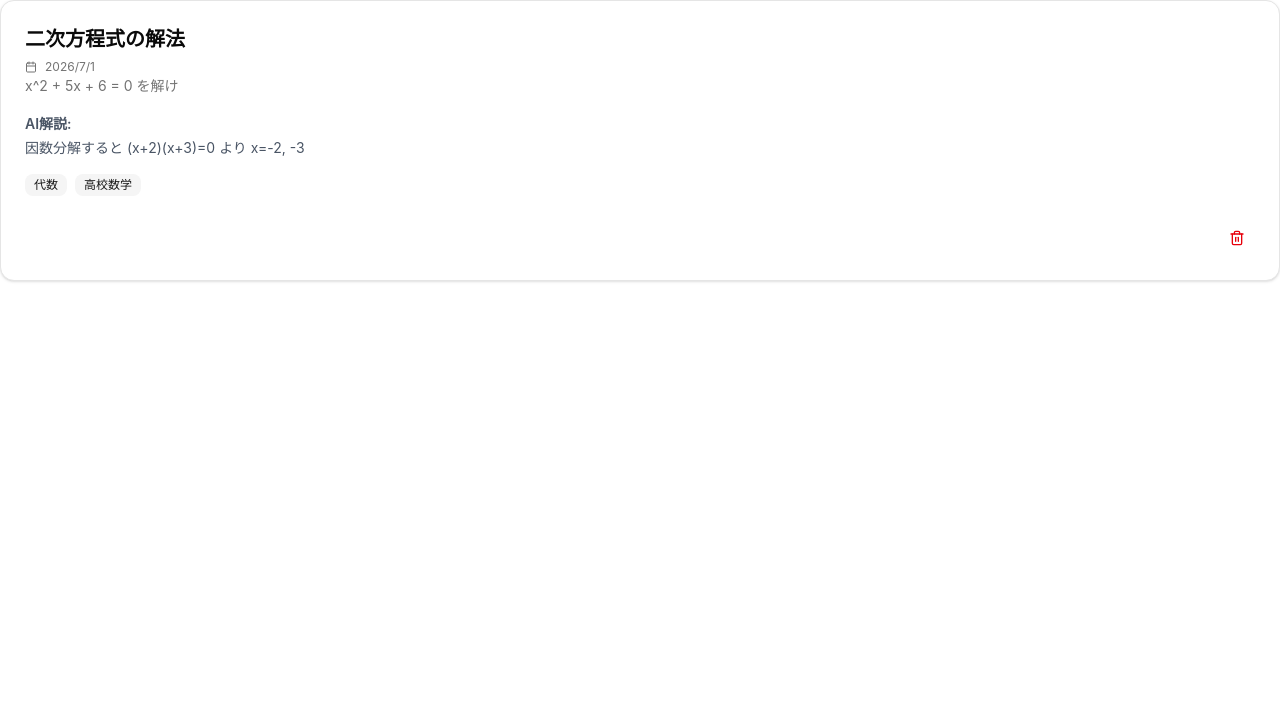
Scenario: ProblemCard › calls onDelete with problem id when delete is confirmed in alert dialog
Later steps or results of the test are not shown.
Note: ゴミ箱アイコンボタンをクリックしてダイアログを開く
Click the button.
click(1237, 238)  # box [1219, 220, 1255, 256]
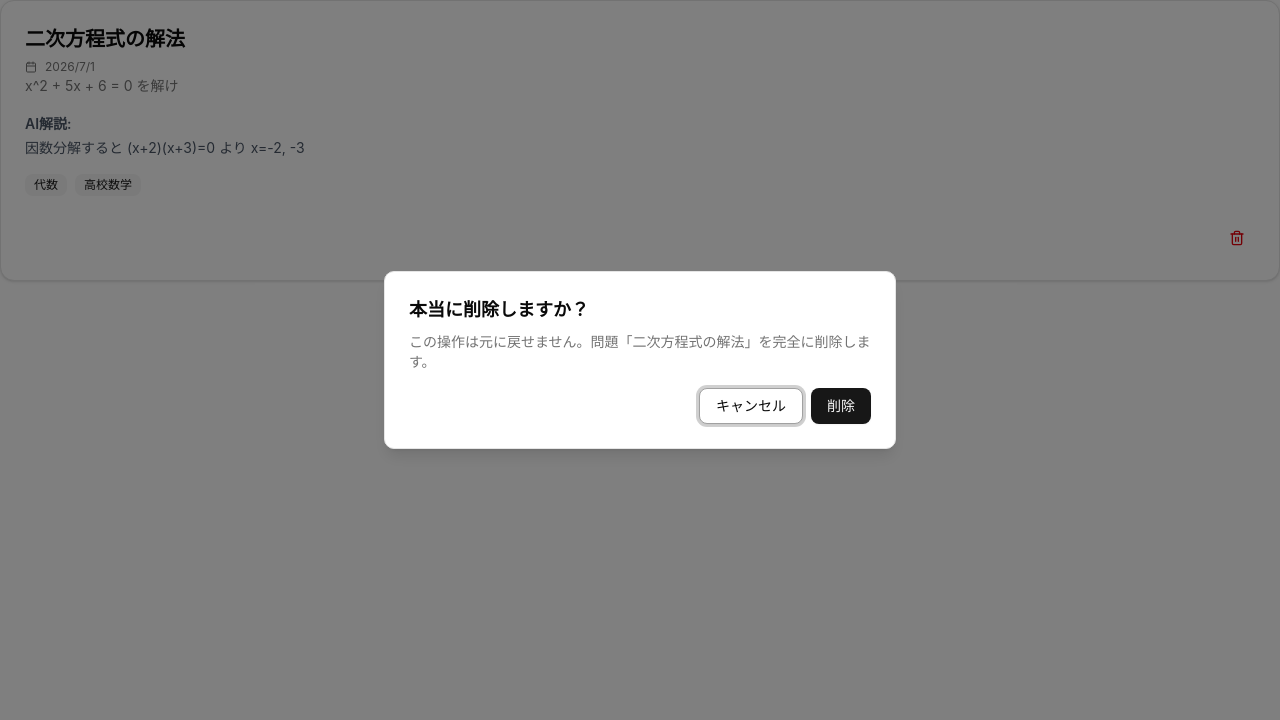
Now the heading "本当に削除しますか？" is shown, box [409, 299, 589, 320]
Now the text "この操作は元に戻せません。問題「二次方程式の解法」を完全に削除します。" is shown, box [409, 332, 871, 372]
